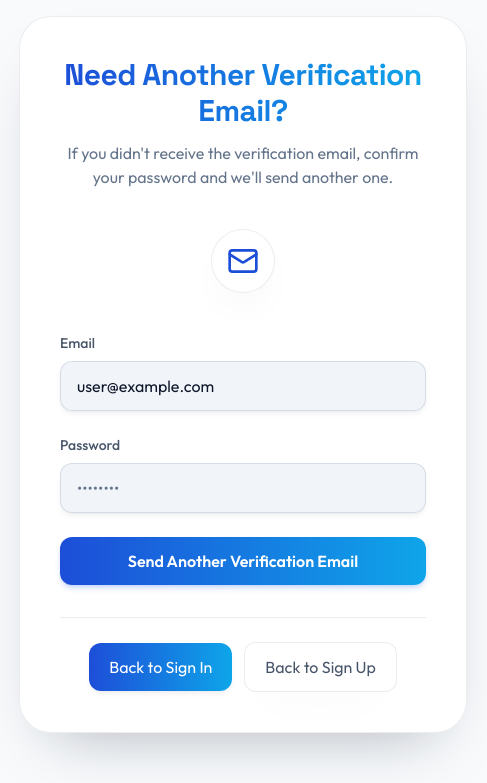
Test: Resend Verification Page › resends the verification email after the user confirms their password
Check: the field labelled "Email" holds "user@example.com", box [60,361,426,411]
Type "Password123#" into the password field labelled "Password" at (243, 488), box [60,463,426,513]
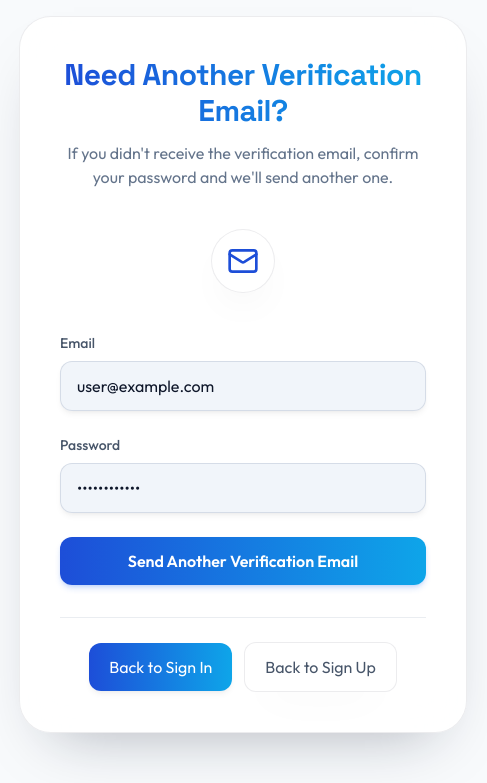
Click the button "Send Another Verification Email" at (243, 561), box [60,537,426,585]
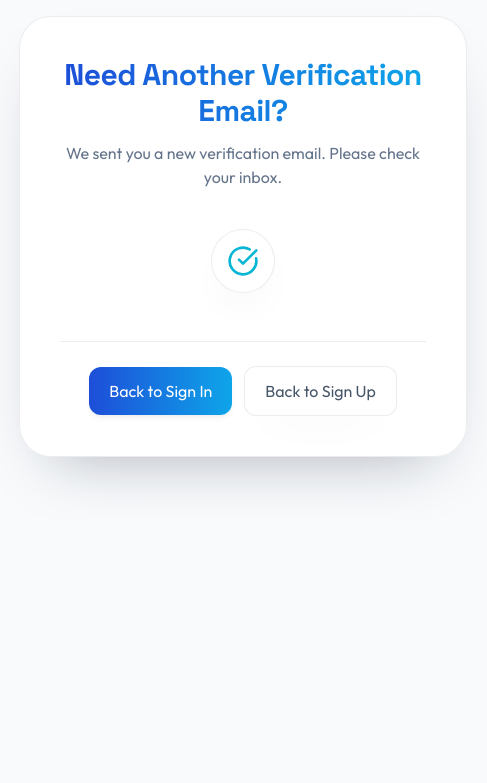
Check: the text "We sent you a new verification email. Please check your inbox." is shown, box [60,141,426,189]
